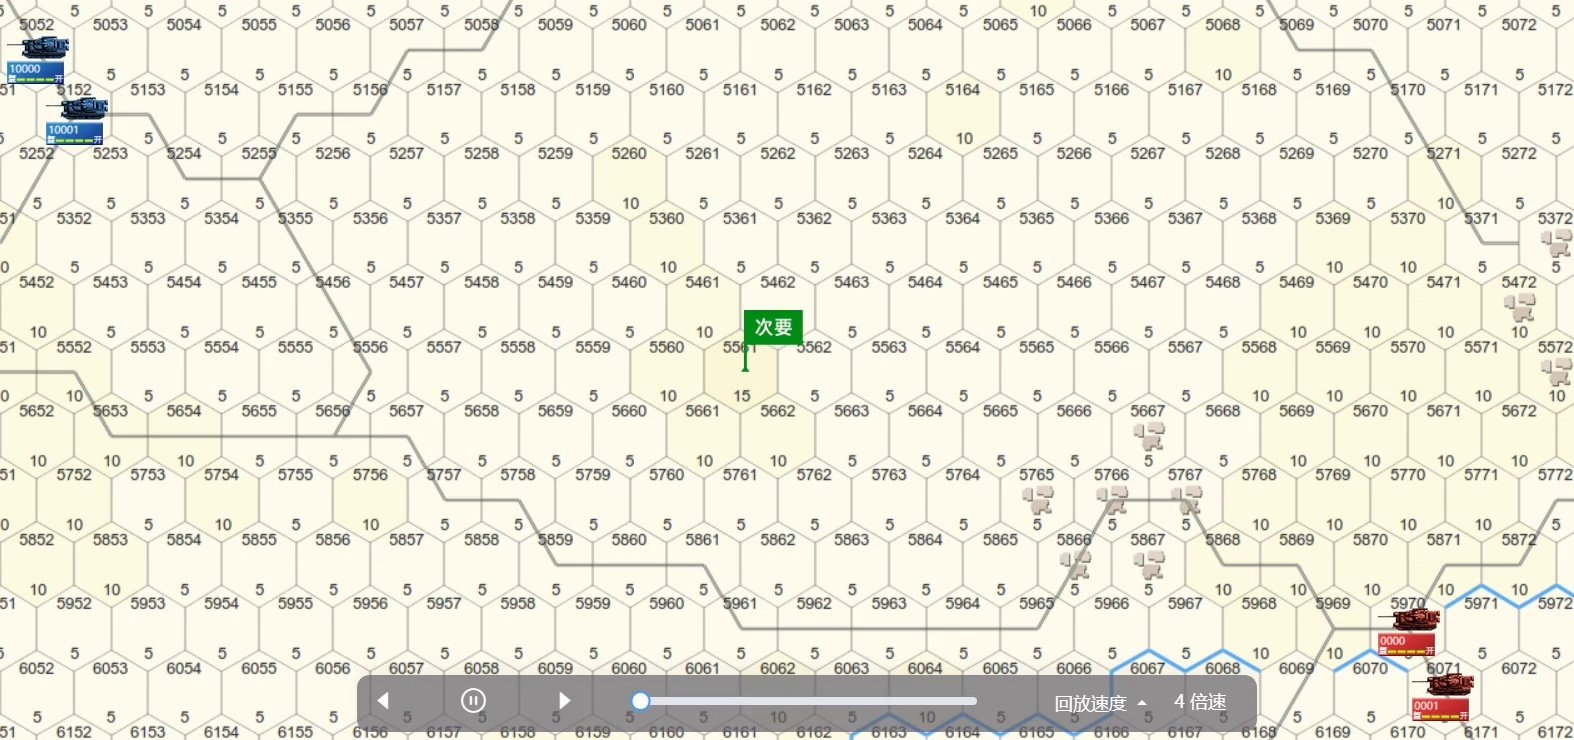blue_tank: (15, 33, 74, 86), (44, 100, 106, 150)
red_tank: (1375, 603, 1442, 652), (1412, 671, 1468, 721)
